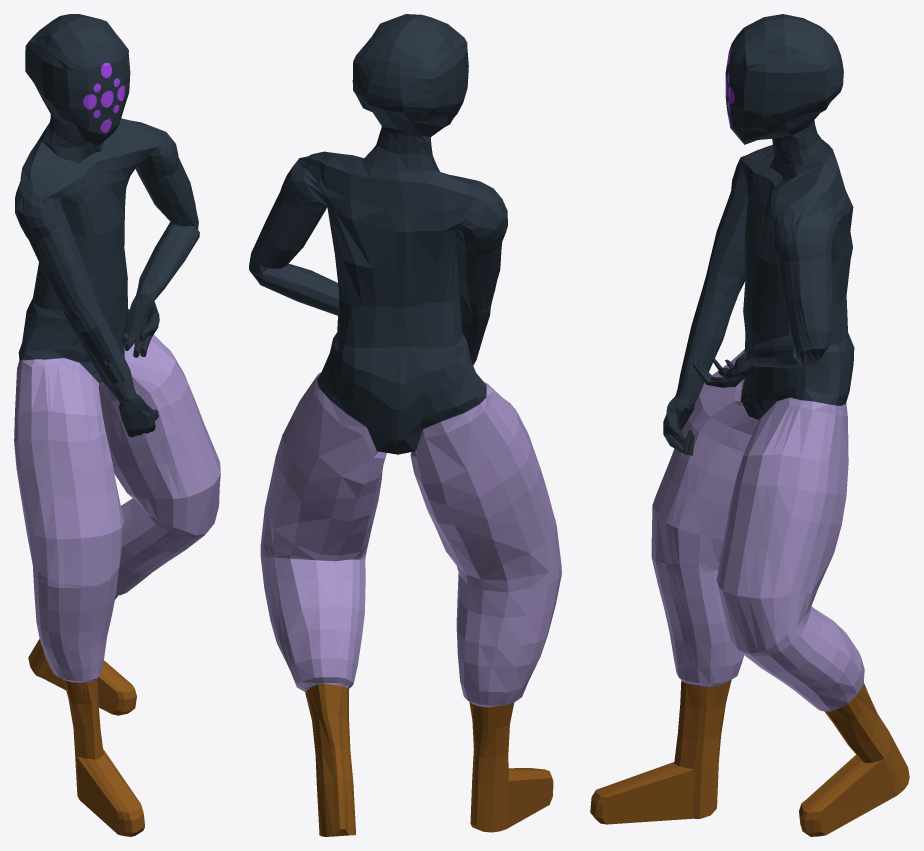
The model's file is Oracle_WF_000021.obj.
The picture shows the model from 3 angles, left to right: view 1: azimuth 30°, elevation 25°; view 2: azimuth 150°, elevation 25°; view 3: azimuth 270°, elevation 25°; orthographic projection. The views are drawn at different scales.
Visible parts, largest first — view 1: Cube; view 2: Cube; view 3: Cube.
Boxes of the visible parts, x1,y1,x2,y2 form: Cube: (14,14,220,836); Cube: (249,14,561,836); Cube: (590,14,909,836).
Size of the model in its own units: 1.2 by 3.87 by 1.37.
